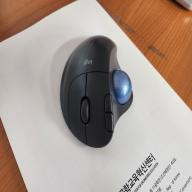mouse: (60, 36, 134, 150)
